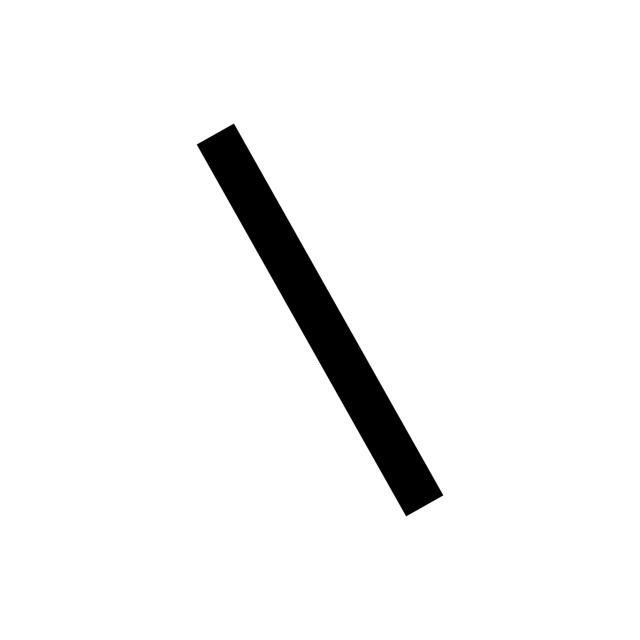line: (197, 123, 443, 516)
